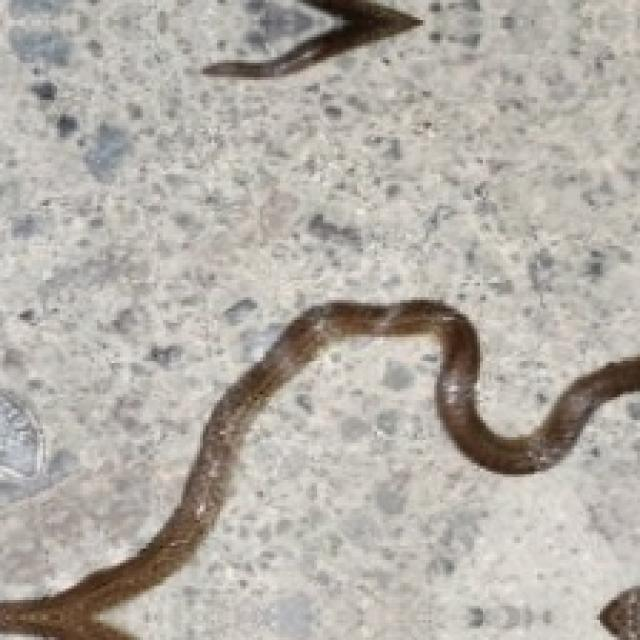gervais worm snake: (0, 300, 637, 637), (202, 0, 422, 77)
